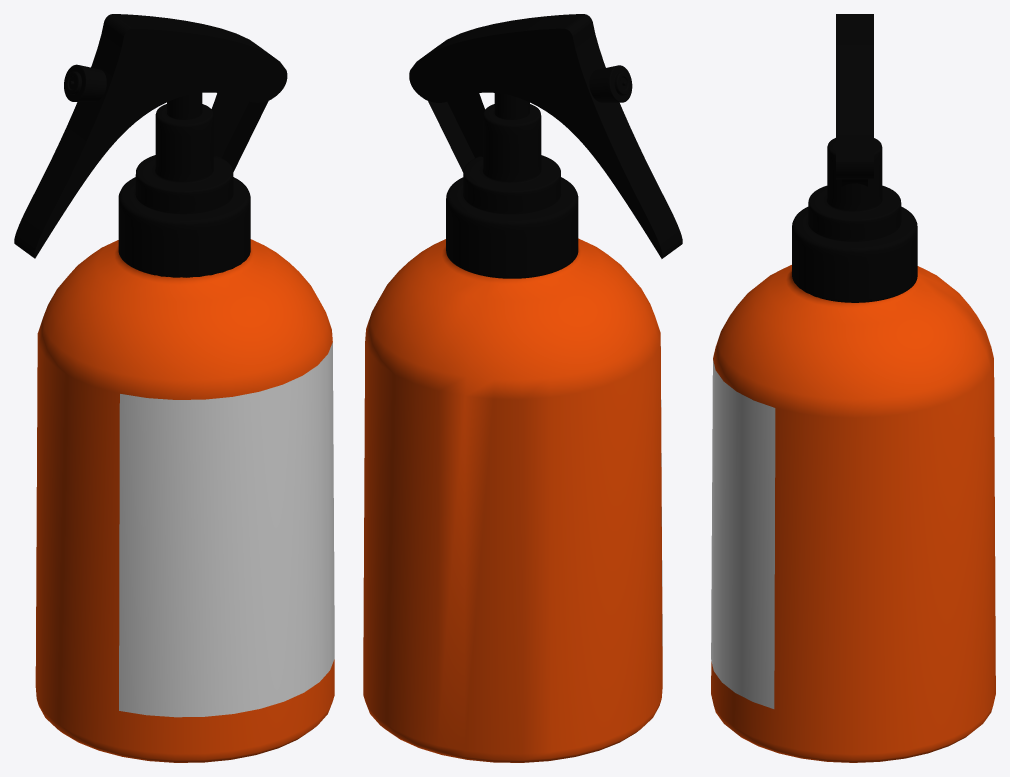
The model's file is 16RoomSprayV1.0.2.glb.
3 views of the same model, side by side, from view 1: azimuth 30°, elevation 25°; view 2: azimuth 150°, elevation 25°; view 3: azimuth 270°, elevation 25° (orthographic). The views are drawn at different scales.
Parts seen in each view (by area): view 1: bottle, label, Cap; view 2: bottle, Cap; view 3: bottle, Cap, label.
Part boxes in pixels (x1=…): bottle: x1=35, y1=239, x2=334, y2=762; label: x1=119, y1=342, x2=334, y2=717; Cap: x1=14, y1=14, x2=287, y2=277; bottle: x1=363, y1=238, x2=662, y2=762; Cap: x1=409, y1=14, x2=682, y2=278; bottle: x1=711, y1=265, x2=995, y2=762; Cap: x1=792, y1=14, x2=917, y2=302; label: x1=711, y1=360, x2=775, y2=708.
Size of the model in its own units: 0.0852 by 0.1959 by 0.0762.
